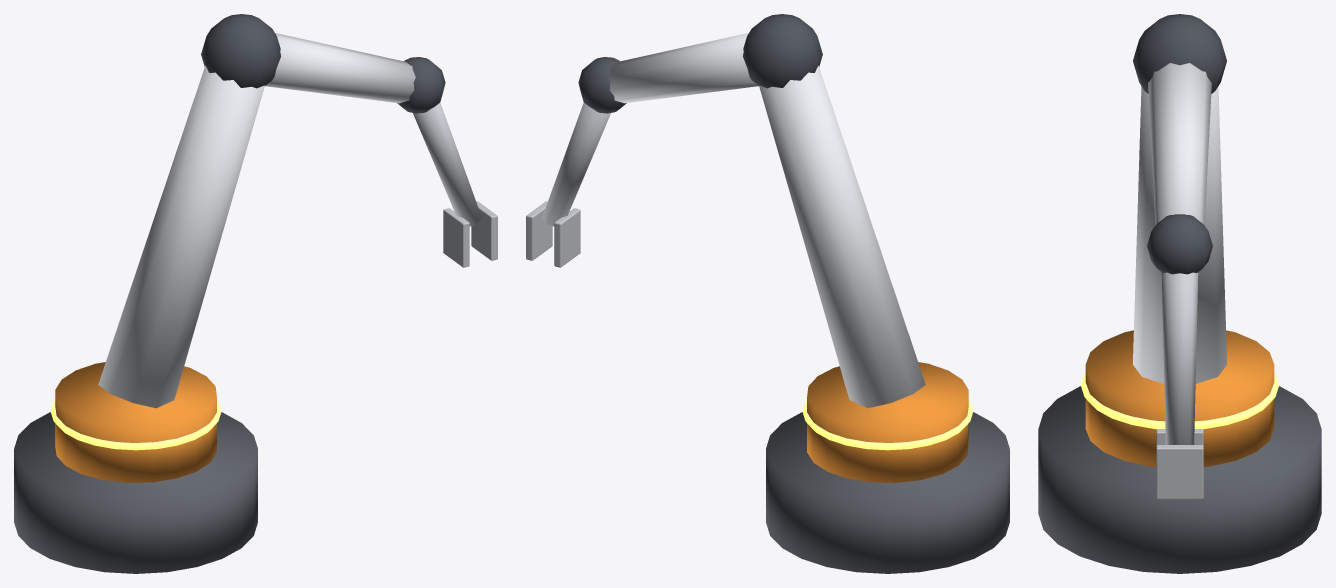
The model's file is robot_arm_assembly.glb.
3 views of the same model, side by side, from view 1: azimuth 30°, elevation 25°; view 2: azimuth 150°, elevation 25°; view 3: azimuth 270°, elevation 25° (orthographic). The views are drawn at different scales.
Visible parts, largest first — view 1: GD_robot_arm_assembly__m2, GD_robot_arm_assembly__m0, GD_robot_arm_assembly__m1, GD_robot_arm_assembly__m3, GD_robot_arm_assembly__m4, GD_robot_arm_assembly__m5; view 2: GD_robot_arm_assembly__m2, GD_robot_arm_assembly__m0, GD_robot_arm_assembly__m1, GD_robot_arm_assembly__m3, GD_robot_arm_assembly__m4, GD_robot_arm_assembly__m5; view 3: GD_robot_arm_assembly__m0, GD_robot_arm_assembly__m2, GD_robot_arm_assembly__m1, GD_robot_arm_assembly__m4, GD_robot_arm_assembly__m3, GD_robot_arm_assembly__m5.
Boxes of the visible parts, left/top/right/bottom form: GD_robot_arm_assembly__m2: left=98, top=33, right=415, bottom=408; GD_robot_arm_assembly__m0: left=14, top=412, right=257, bottom=573; GD_robot_arm_assembly__m1: left=55, top=362, right=216, bottom=482; GD_robot_arm_assembly__m3: left=201, top=14, right=445, bottom=113; GD_robot_arm_assembly__m4: left=413, top=102, right=497, bottom=267; GD_robot_arm_assembly__m5: left=50, top=401, right=221, bottom=450; GD_robot_arm_assembly__m2: left=608, top=33, right=925, bottom=408; GD_robot_arm_assembly__m0: left=766, top=412, right=1009, bottom=573; GD_robot_arm_assembly__m1: left=807, top=362, right=968, bottom=482; GD_robot_arm_assembly__m3: left=578, top=14, right=822, bottom=113; GD_robot_arm_assembly__m4: left=526, top=102, right=610, bottom=267; GD_robot_arm_assembly__m5: left=802, top=401, right=973, bottom=450; GD_robot_arm_assembly__m0: left=1038, top=386, right=1321, bottom=573; GD_robot_arm_assembly__m2: left=1133, top=63, right=1226, bottom=383; GD_robot_arm_assembly__m1: left=1085, top=330, right=1274, bottom=466; GD_robot_arm_assembly__m4: left=1156, top=272, right=1203, bottom=499; GD_robot_arm_assembly__m3: left=1133, top=14, right=1226, bottom=274; GD_robot_arm_assembly__m5: left=1081, top=374, right=1278, bottom=429.
Bounding box in the file's own units: 1.3 × 1.3 × 0.6.
